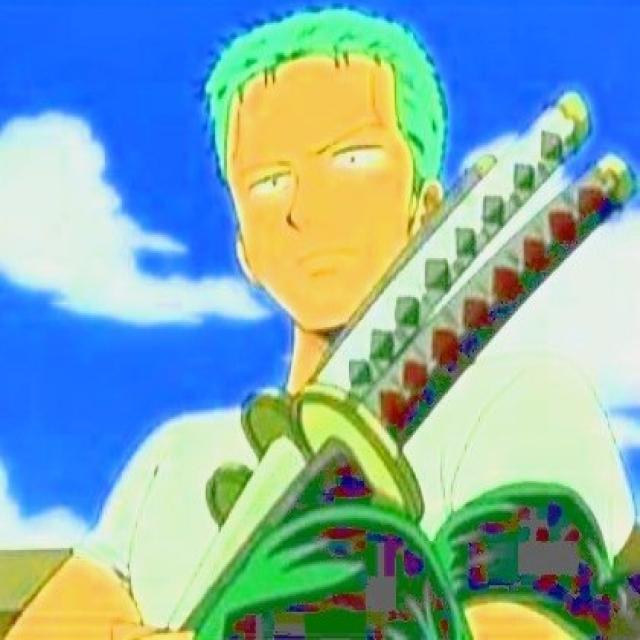Zoro: (0, 11, 640, 640)
